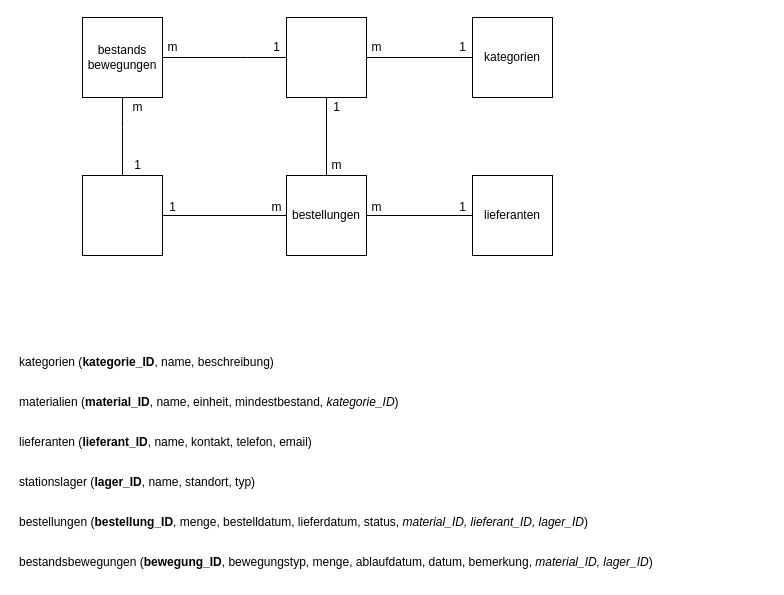
This 784x595 diagram has some shape labels left out. The shapes that lost their labels are listed below. From the top down, each one's centre as x and y in pixels, then its label:
At point 326,57: "materialien".
At point 122,215: "stationslager".
